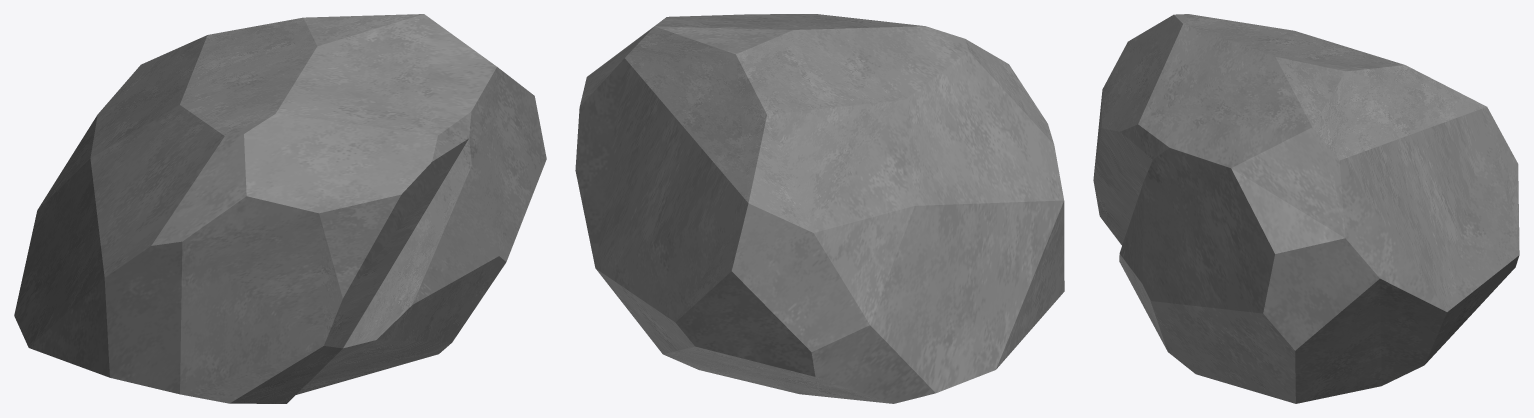
File: Rock_2.glb
3 renders of one model, left to right at view 1: azimuth 30°, elevation 25°; view 2: azimuth 150°, elevation 25°; view 3: azimuth 270°, elevation 25°, orthographic. The views are drawn at different scales.
Parts seen in each view (by area): view 1: Rock.008; view 2: Rock.008; view 3: Rock.008.
Boxes of the visible parts, x1,y1,x2,y2 form: Rock.008: [14, 14, 546, 403]; Rock.008: [575, 14, 1064, 403]; Rock.008: [1093, 14, 1519, 403].
Size of the model in its own units: 1.48 by 0.9847 by 1.22.
1 material, 1 textured.
